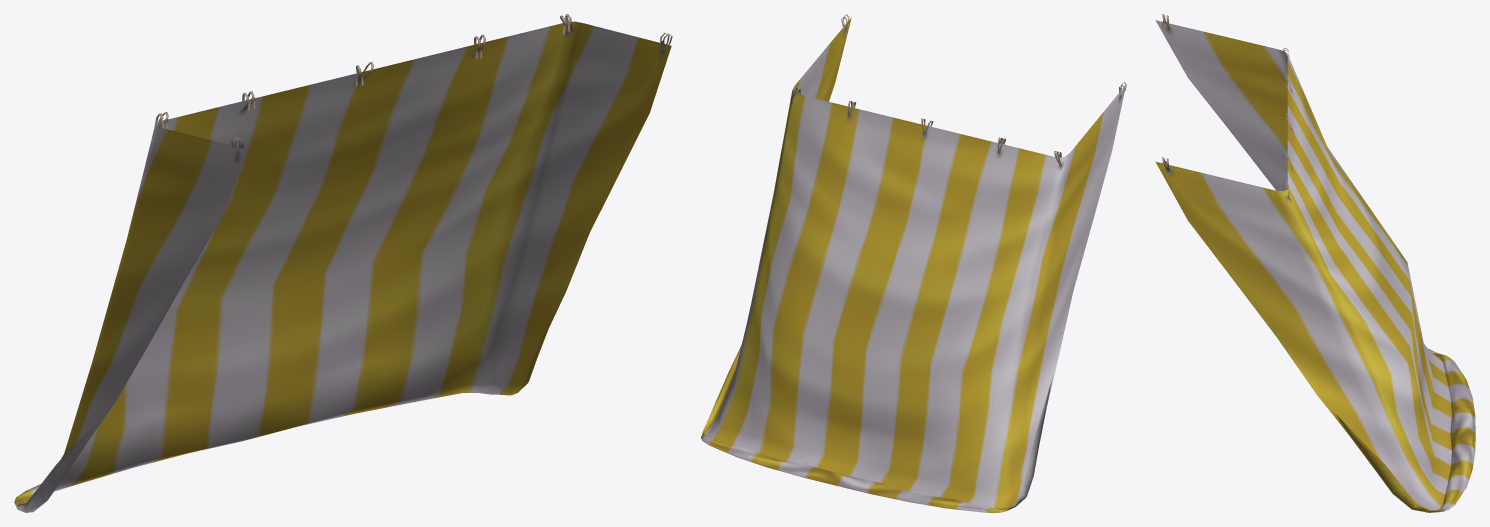
Rendered from jsf_BackSide_s01_c03_t02.fbx.
3 views of the same model, side by side, from view 1: azimuth 30°, elevation 25°; view 2: azimuth 150°, elevation 25°; view 3: azimuth 270°, elevation 25° (orthographic). The views are drawn at different scales.
Parts seen in each view (by area): view 1: jsf_BackSide_s01_c03_t02; view 2: jsf_BackSide_s01_c03_t02; view 3: jsf_BackSide_s01_c03_t02.
Part boxes in pixels (x1,y1,x2,y2): jsf_BackSide_s01_c03_t02: [14, 14, 672, 512]; jsf_BackSide_s01_c03_t02: [701, 14, 1126, 512]; jsf_BackSide_s01_c03_t02: [1155, 14, 1475, 512].
Bounding box in the file's own units: 207 × 205 × 171.
